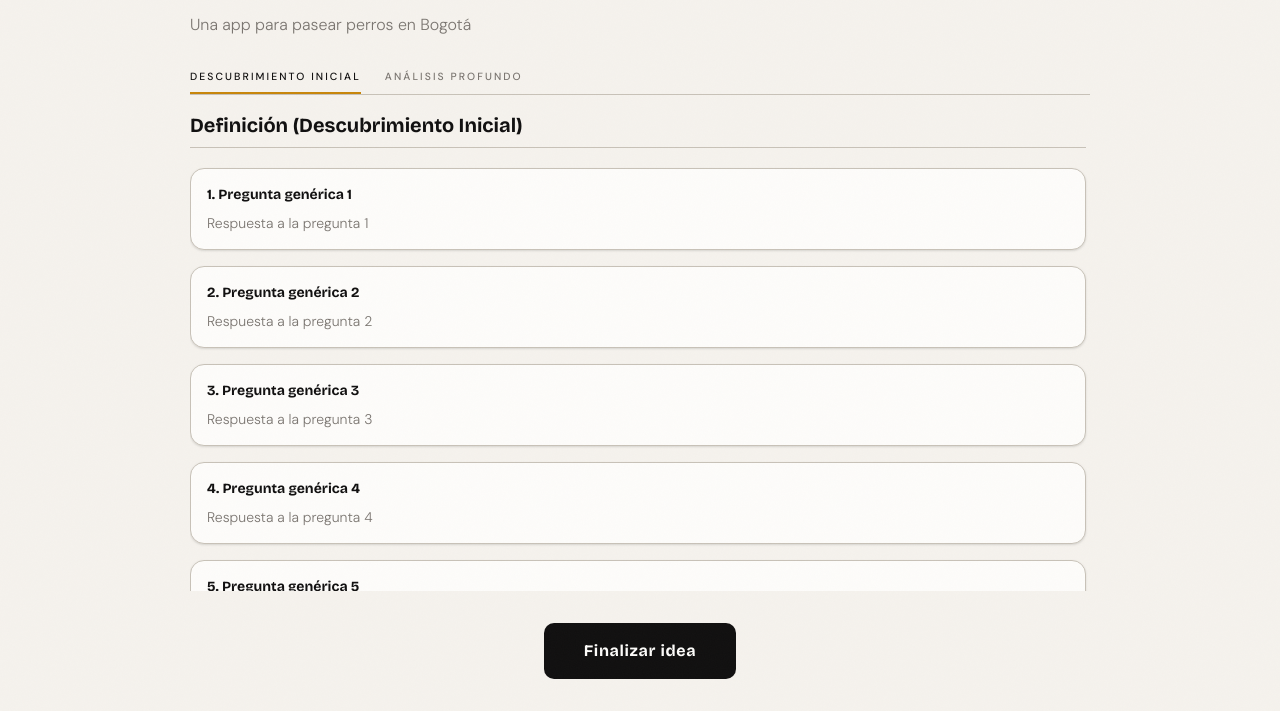
Test: Idea (resumen final y descargas) › si el backend rechaza el PATCH, avisa el error y se queda en la idea
(page scrolled)
Click the button "Finalizar idea". click: [640, 651]
box: [544,623,736,679]
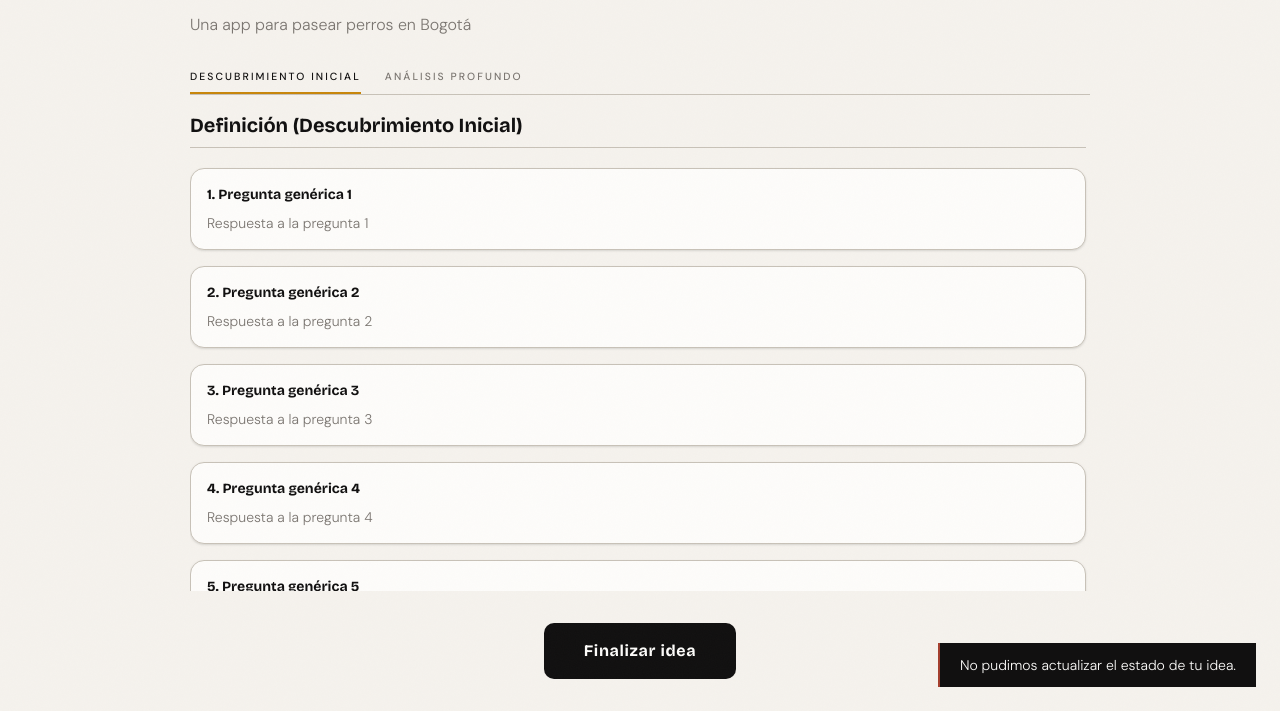
Result: the text "No pudimos actualizar el estado de tu idea." is shown at [938,643,1256,687]
